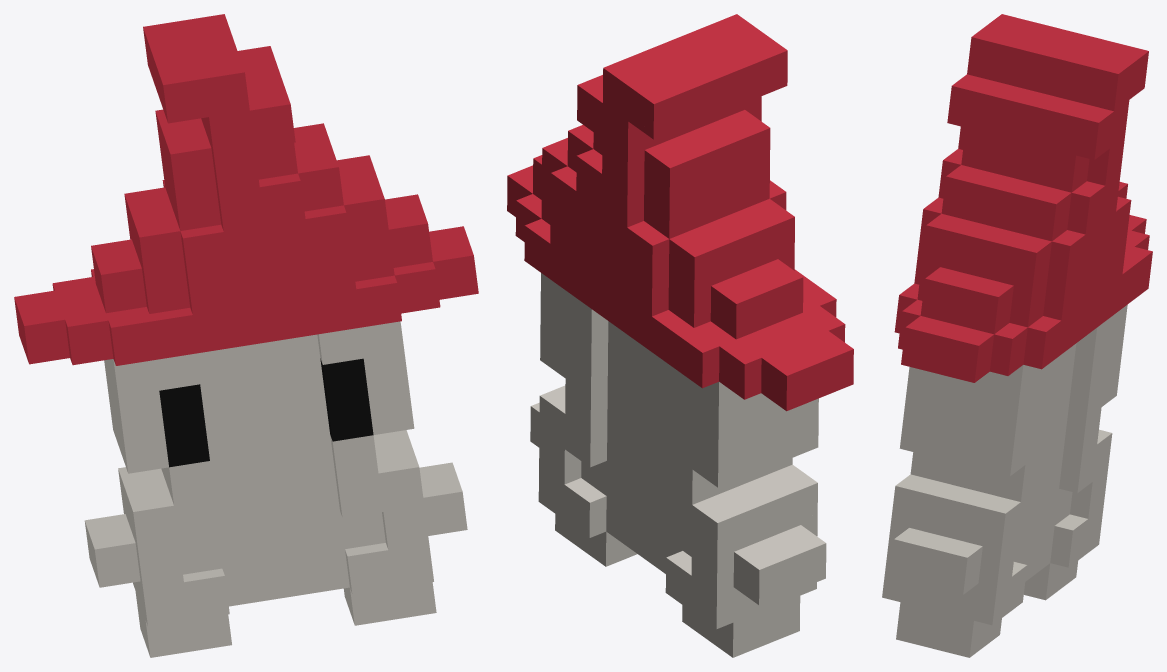
File: wellspring-cfdef7ee7e.glb
3 renders of one model, left to right at view 1: azimuth 30°, elevation 25°; view 2: azimuth 150°, elevation 25°; view 3: azimuth 270°, elevation 25°, orthographic. The views are drawn at different scales.
Bounding box in the file's own units: 3.98 × 5.64 × 2.46.
